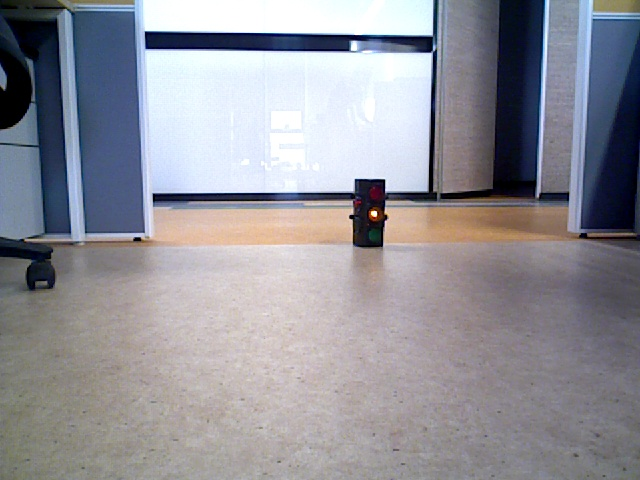yellow: (356, 180, 378, 246)
